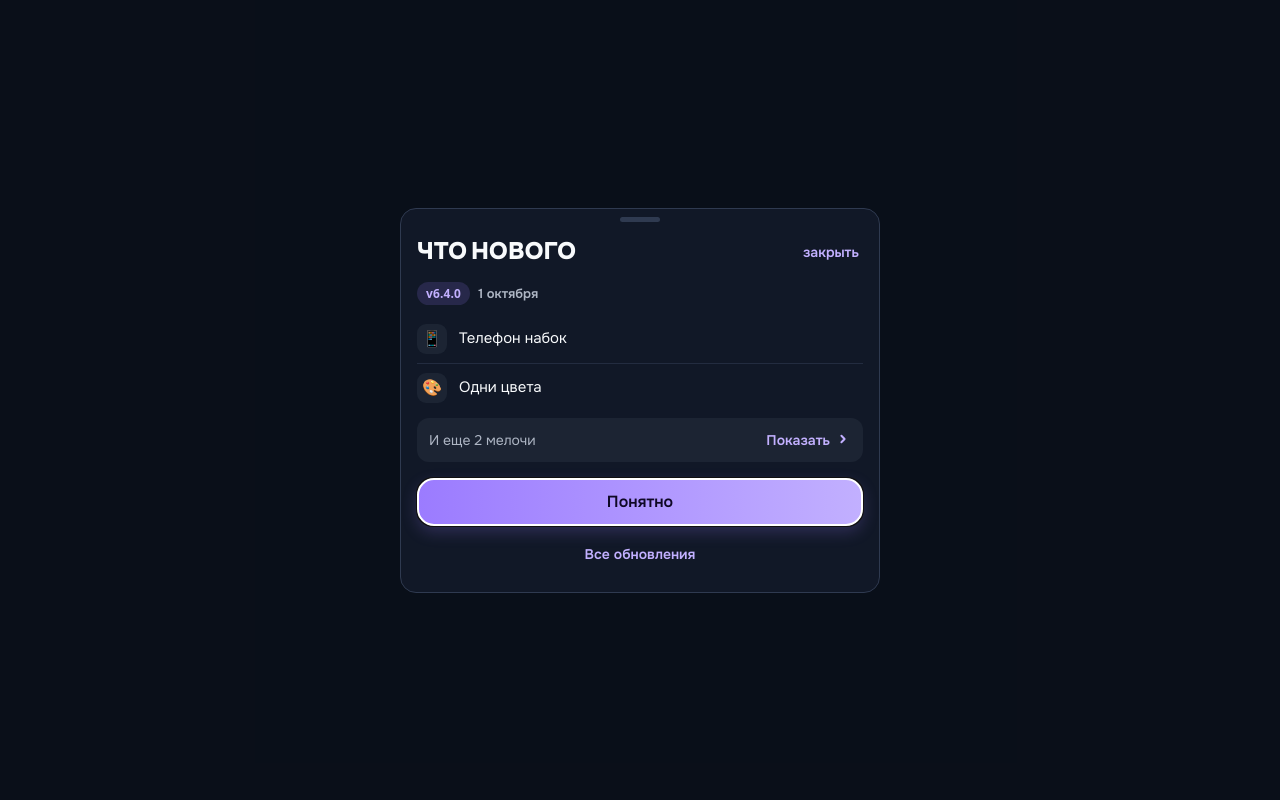
WhatsNewSheet (v6.4.0) › главное сразу, мелочи — по тапу
The width and height of the screenshot is (1280, 800).
Expected: the dialog "Что нового" is shown, [400,208,880,592]
Expected: the text "v6.4.0" is shown, [417,282,470,304]
Click the button "И еще 2 мелочи Показать" at coordinates (452, 440), box [417,418,863,462]
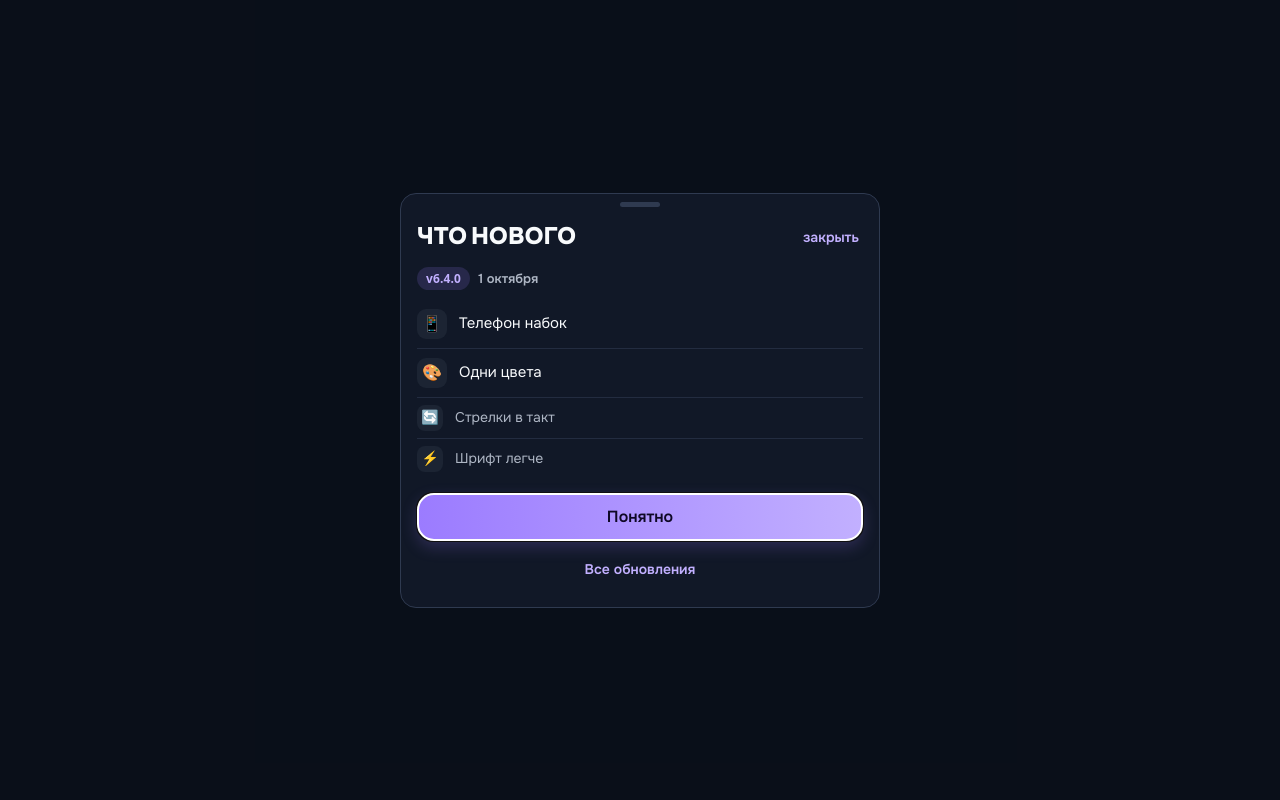
Expected: the text "Шрифт легче" is shown, [455,449,543,468]
